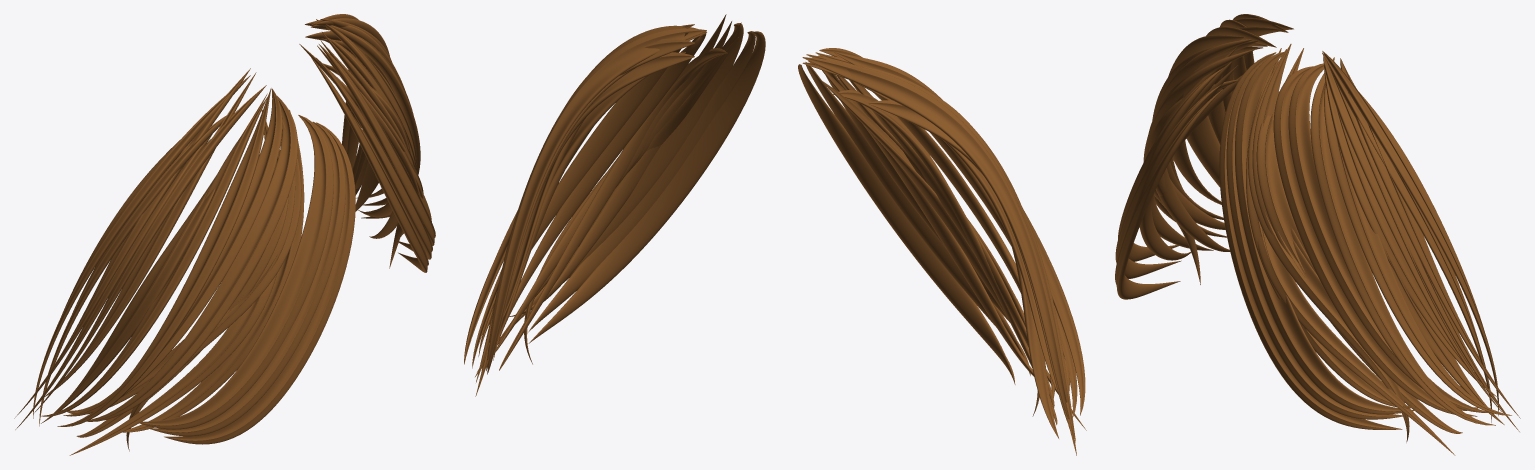
File: poopy.glb
3 renders of one model, left to right at view 1: azimuth 30°, elevation 25°; view 2: azimuth 150°, elevation 25°; view 3: azimuth 270°, elevation 25°, orthographic. The views are drawn at different scales.
Parts seen in each view (by area): view 1: NurbsPath.008, NurbsPath.003, NurbsPath.013, NurbsPath.002, NurbsPath.007, NurbsPath.011, NurbsPath.017, NurbsPath.012, NurbsPath.001, NurbsPath.005, NurbsPath.015, NurbsPath.014 (+23 smaller); view 2: NurbsPath.021, NurbsPath.015, NurbsPath.034, NurbsPath.002, NurbsPath.026, NurbsPath.022, NurbsPath.028, NurbsPath.007, NurbsPath.030, NurbsPath.027, NurbsPath.001, NurbsPath.009 (+23 smaller); view 3: NurbsPath.032, NurbsPath.027, NurbsPath.022, NurbsPath.030, NurbsPath.031, NurbsPath.026, NurbsPath.021, NurbsPath.033, NurbsPath.034, NurbsPath.024, NurbsPath.035, NurbsPath.028 (+22 smaller).
Boxes of the visible parts, box(x1,y1,x2,y2) form: NurbsPath.008: box(139, 115, 333, 429); NurbsPath.003: box(87, 96, 297, 421); NurbsPath.013: box(57, 88, 271, 426); NurbsPath.002: box(164, 122, 355, 444); NurbsPath.007: box(150, 121, 345, 436); NurbsPath.011: box(63, 88, 282, 416); NurbsPath.017: box(41, 93, 267, 423); NurbsPath.012: box(40, 96, 267, 416); NurbsPath.001: box(122, 110, 304, 432); NurbsPath.005: box(69, 109, 277, 455); NurbsPath.015: box(33, 75, 250, 418); NurbsPath.014: box(44, 72, 256, 396); NurbsPath.021: box(528, 31, 765, 343); NurbsPath.015: box(808, 60, 1069, 418); NurbsPath.034: box(486, 28, 706, 370); NurbsPath.002: box(798, 64, 1015, 384); NurbsPath.026: box(528, 31, 755, 332); NurbsPath.022: box(493, 33, 706, 360); NurbsPath.028: box(499, 48, 727, 370); NurbsPath.007: box(805, 62, 1030, 375); NurbsPath.030: box(478, 49, 680, 356); NurbsPath.027: box(516, 23, 743, 323); NurbsPath.001: box(822, 70, 1034, 376); NurbsPath.009: box(833, 90, 1057, 424); NurbsPath.032: box(1310, 57, 1495, 425); NurbsPath.027: box(1235, 51, 1415, 414); NurbsPath.022: box(1273, 66, 1477, 416); NurbsPath.030: box(1288, 63, 1490, 412); NurbsPath.031: box(1324, 84, 1511, 415); NurbsPath.026: box(1226, 60, 1402, 419); NurbsPath.021: box(1219, 52, 1402, 429); NurbsPath.033: box(1323, 52, 1496, 396); NurbsPath.034: box(1322, 51, 1498, 415); NurbsPath.024: box(1257, 48, 1455, 455); NurbsPath.035: box(1323, 54, 1502, 412); NurbsPath.028: box(1256, 91, 1462, 433).
Bounding box in the file's own units: 5.34 × 3.7 × 3.71.
